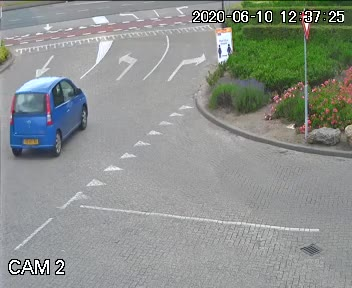car: (2, 69, 95, 159)
